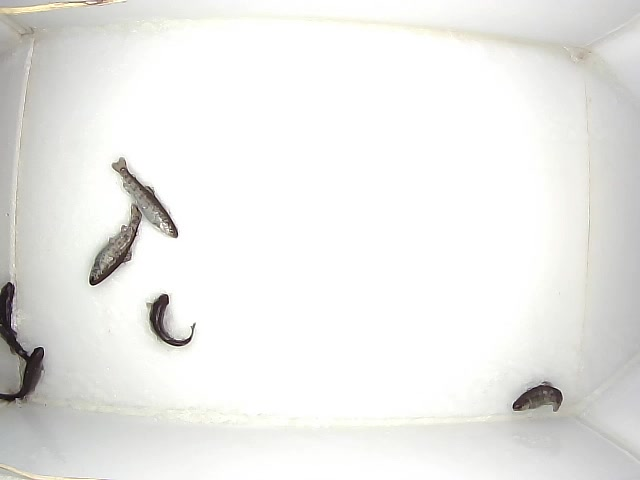fish: (111, 157, 178, 238), (89, 202, 142, 286), (1, 281, 45, 370), (149, 294, 196, 347), (1, 347, 44, 401), (512, 385, 563, 412)
